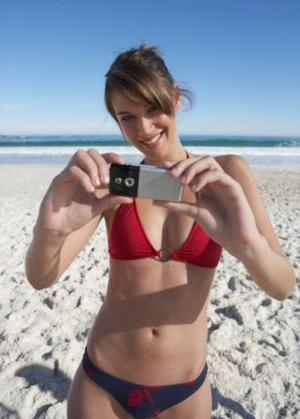person: (24, 43, 295, 419)
